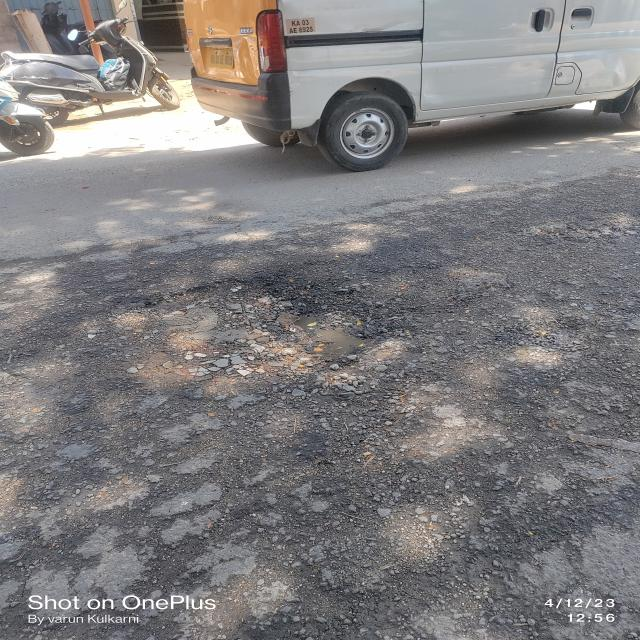potholes: (139, 273, 379, 394)
